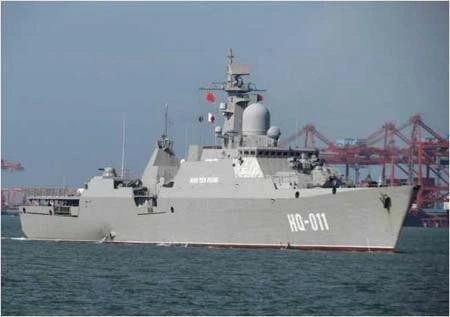MIL_Ship: (17, 45, 424, 254)
